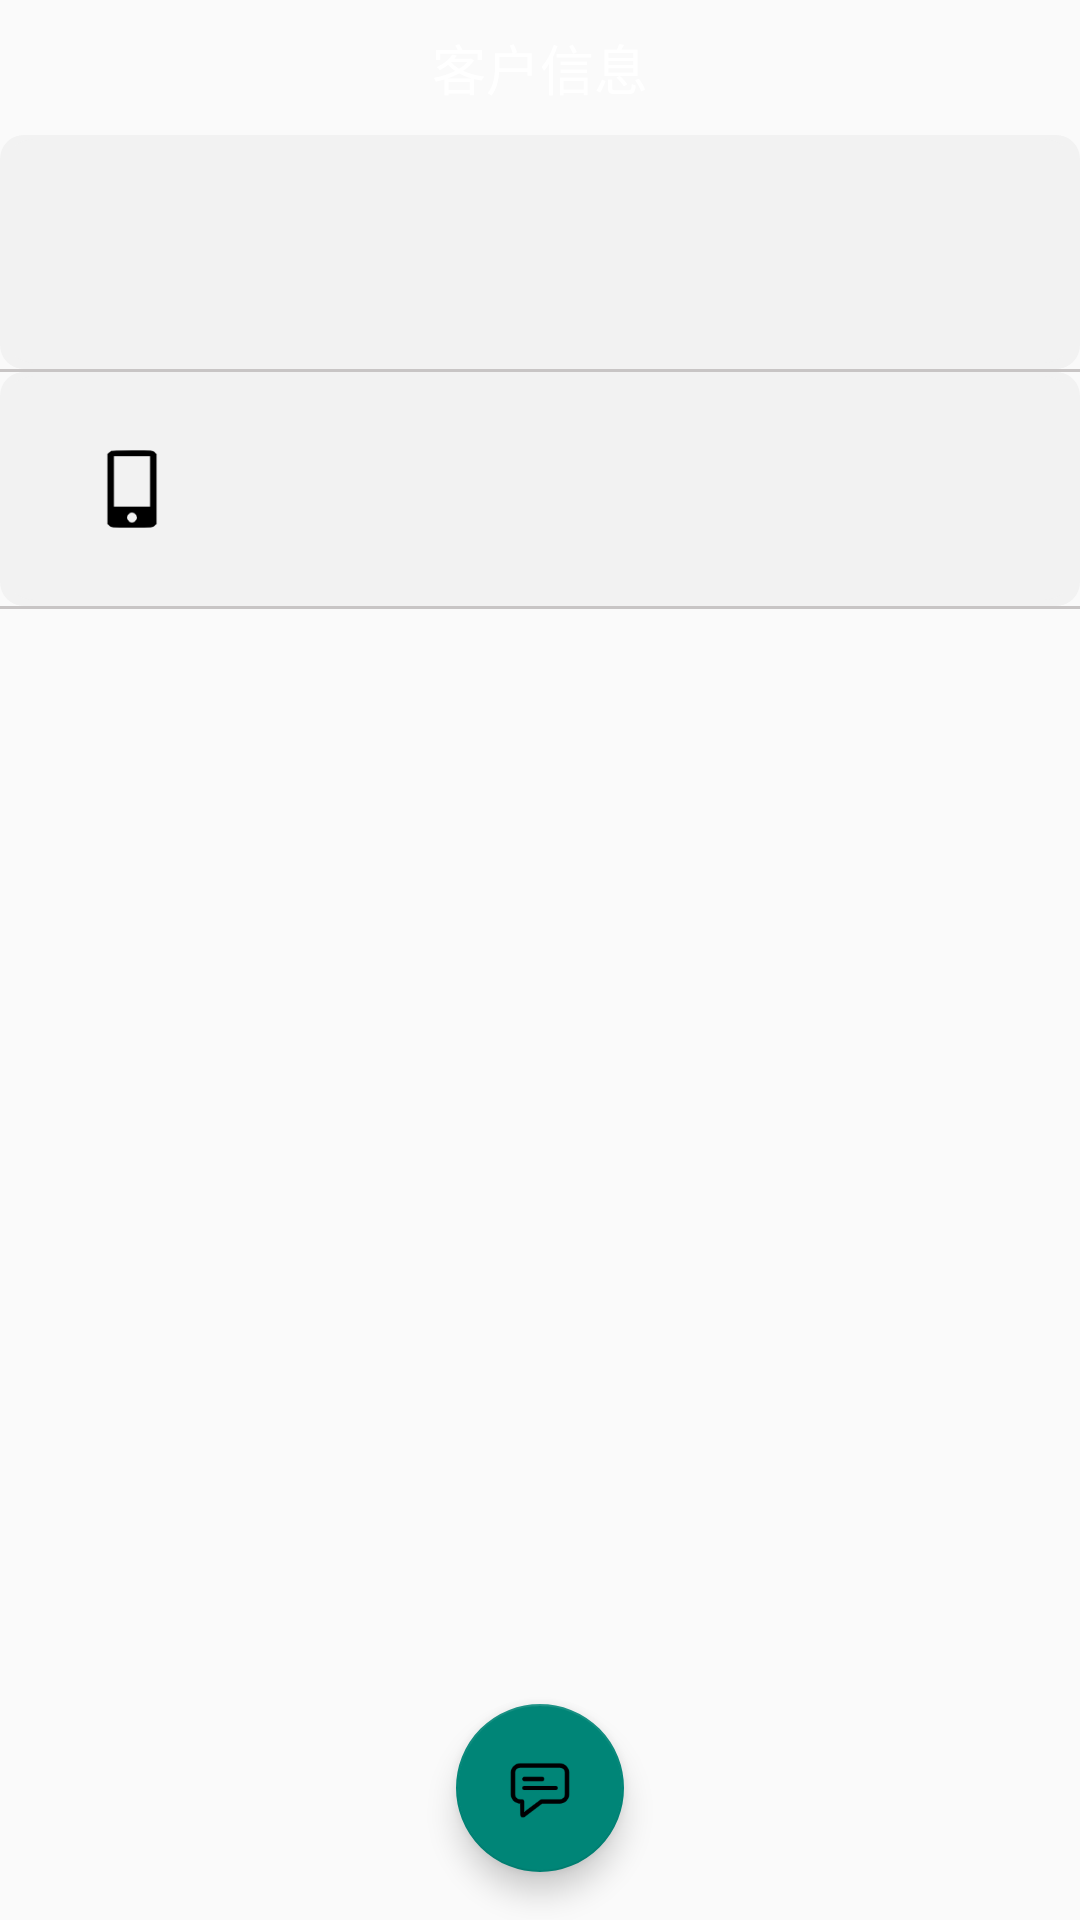

Named icons in this screenshot (1080x1920) and their bounding boxes, BBox(x1, y1, x2, y2):
send message: BBox(456, 1704, 624, 1872)
telephone: BBox(107, 450, 157, 528)
